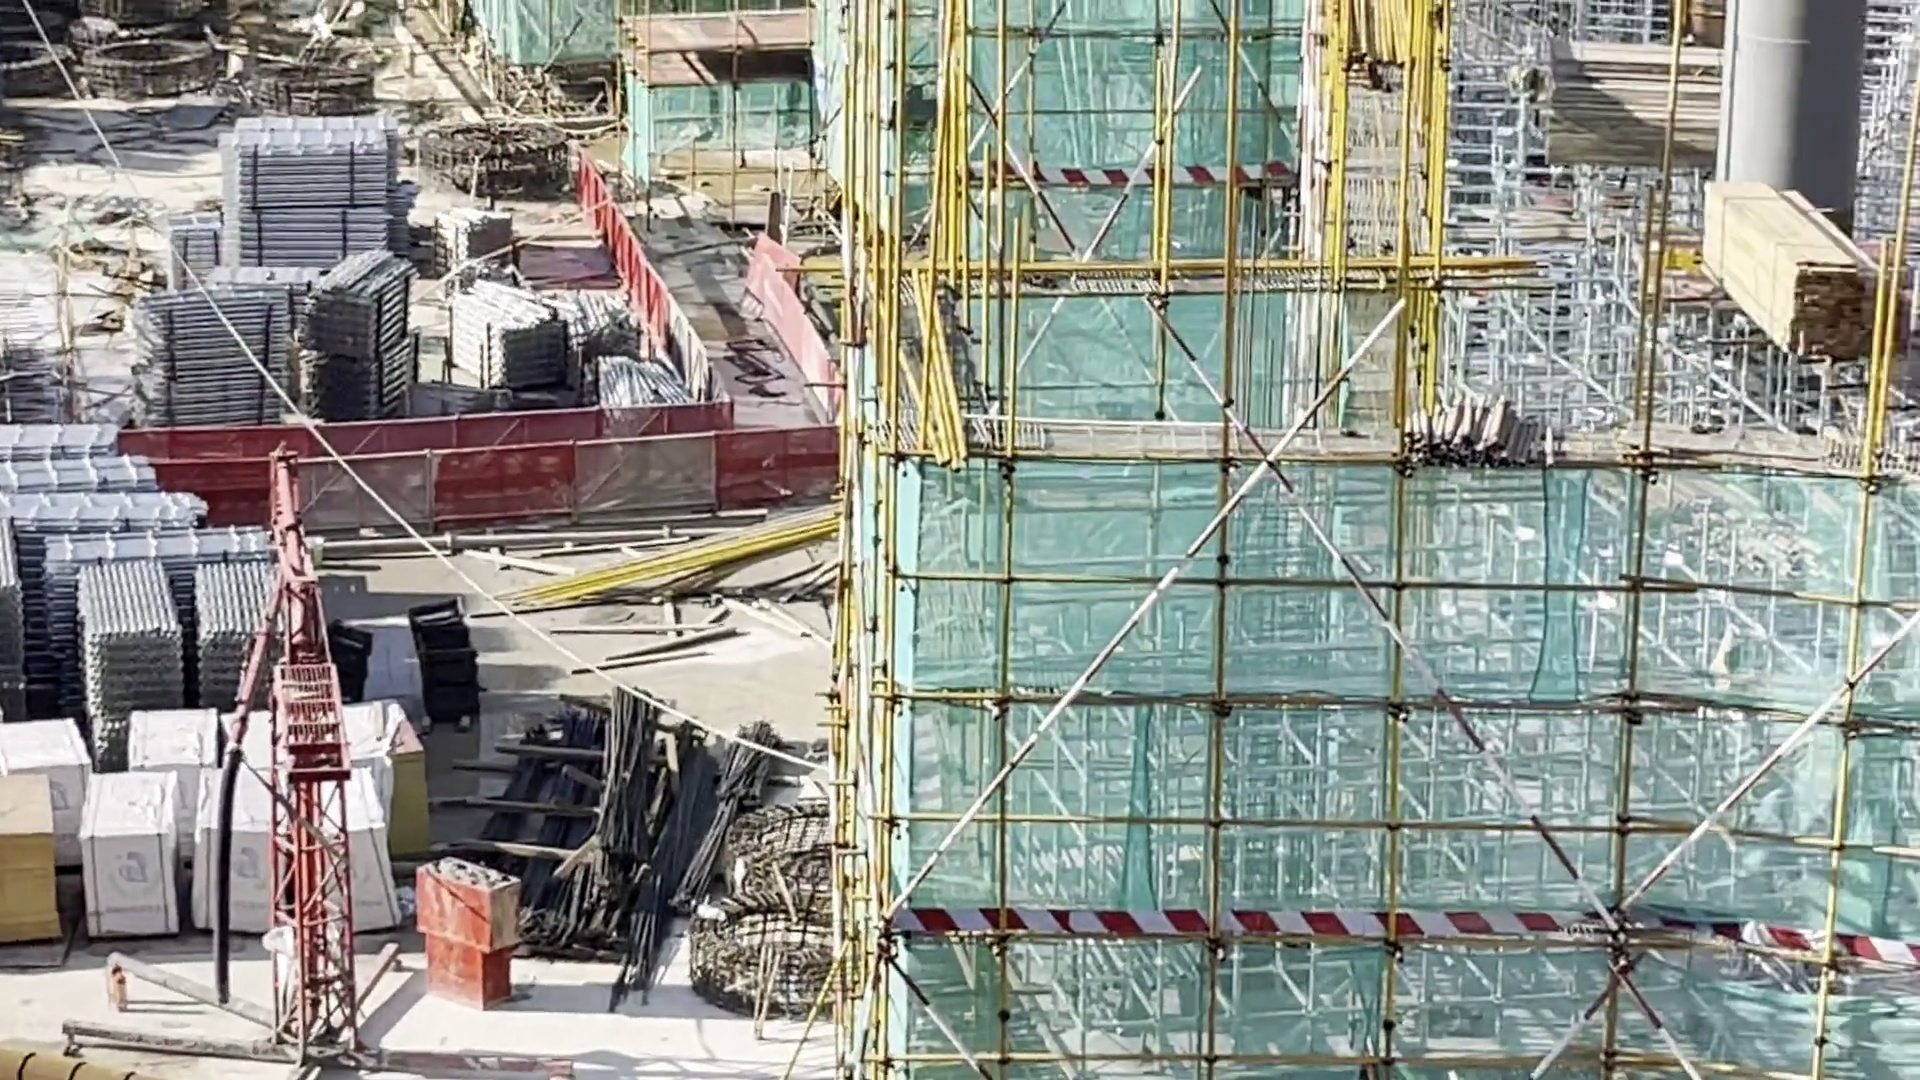board: (1, 764, 70, 964)
scaffold: (40, 506, 284, 688), (63, 560, 189, 757), (198, 556, 320, 742), (225, 109, 404, 214), (136, 276, 299, 376), (235, 210, 417, 282), (302, 249, 422, 356), (120, 371, 299, 436), (310, 339, 436, 429), (9, 495, 210, 545), (3, 417, 131, 460), (1, 458, 164, 491)
wood: (1692, 167, 1917, 360)
